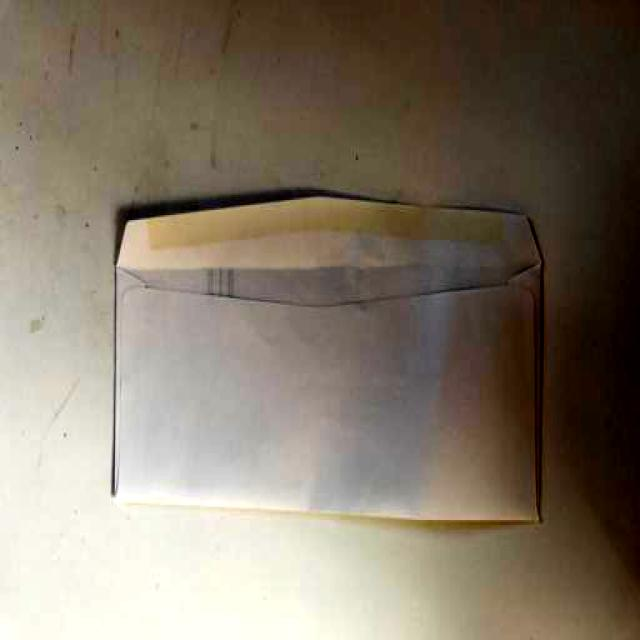Paper: (113, 192, 545, 528)
